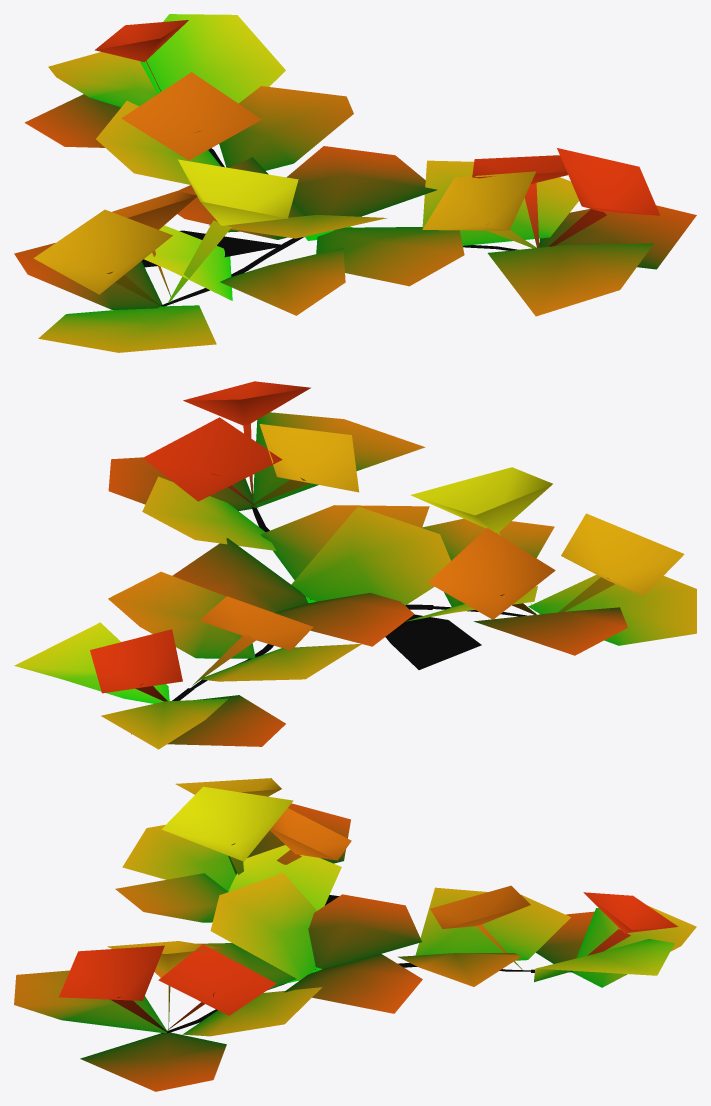
Rendered from Mile-a-minute Vine_LOD1_Var3_sfqns.fbx.
3 views of the same model, one above another, from view 1: azimuth 30°, elevation 25°; view 2: azimuth 150°, elevation 25°; view 3: azimuth 270°, elevation 25° (orthographic). The views are drawn at different scales.
Visible parts, largest first — view 1: _e34f_Var3_LOD1; view 2: _e34f_Var3_LOD1; view 3: _e34f_Var3_LOD1.
Boxes of the visible parts, <box> form: _e34f_Var3_LOD1: <box>14,14,696,352</box>; _e34f_Var3_LOD1: <box>14,381,696,749</box>; _e34f_Var3_LOD1: <box>14,778,696,1091</box>.
Size of the model in its own units: 33.47 by 6.28 by 35.25.
